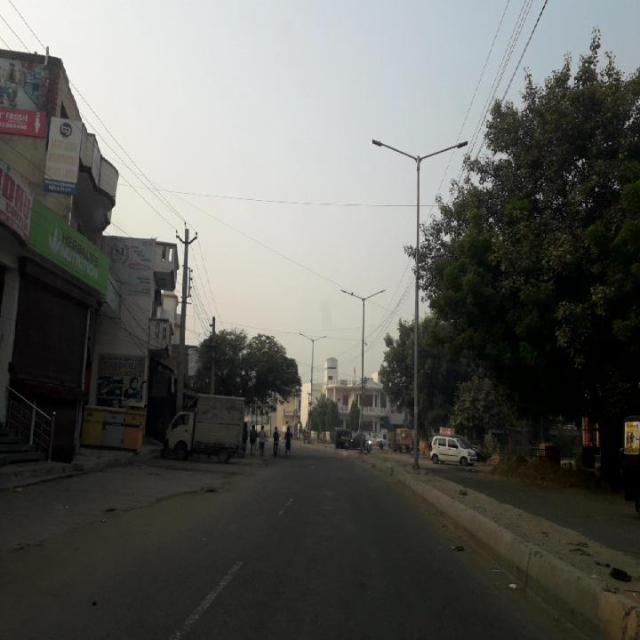D44: (169, 556, 242, 638), (270, 489, 299, 519)
